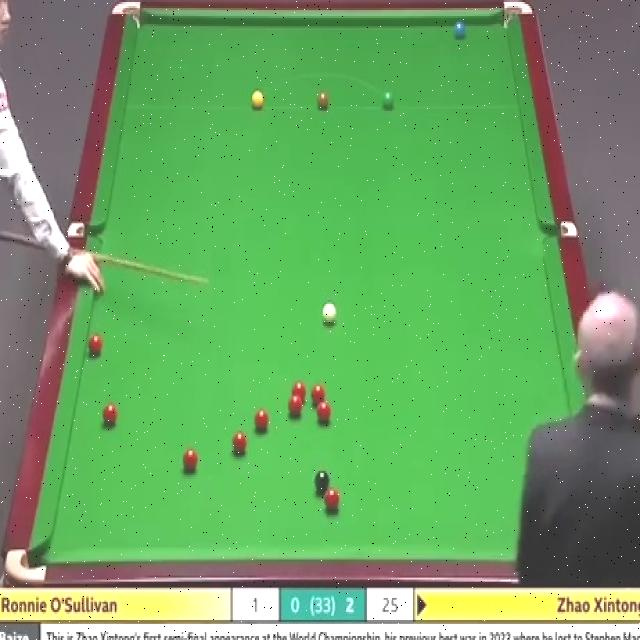black-ball: (314, 470, 328, 492)
blue-ball: (454, 20, 466, 42)
brown-ball: (318, 91, 330, 110)
green-ball: (381, 91, 395, 112)
red-ball: (231, 430, 248, 456), (87, 333, 103, 358), (183, 446, 197, 474), (310, 382, 326, 406), (317, 400, 331, 427), (254, 407, 268, 432), (292, 381, 306, 406), (324, 488, 339, 511), (288, 395, 302, 416), (104, 403, 116, 426)
white-ball: (322, 303, 337, 326)
yellow-ball: (250, 90, 265, 110)
